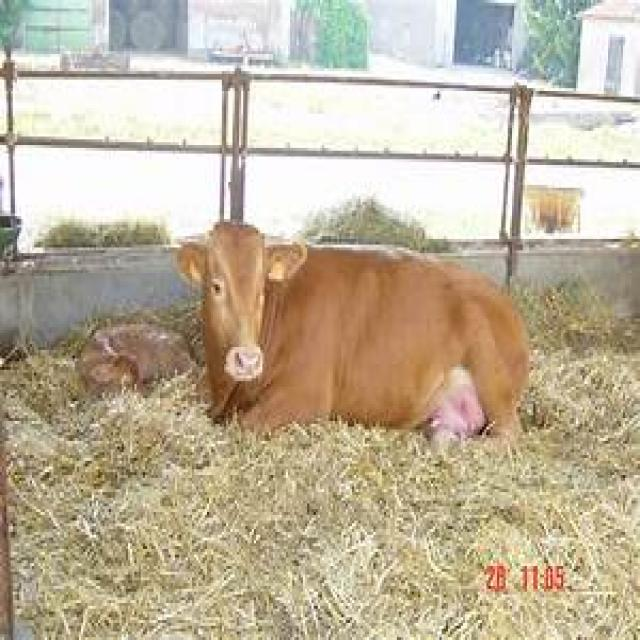cow: (171, 222, 533, 449)
